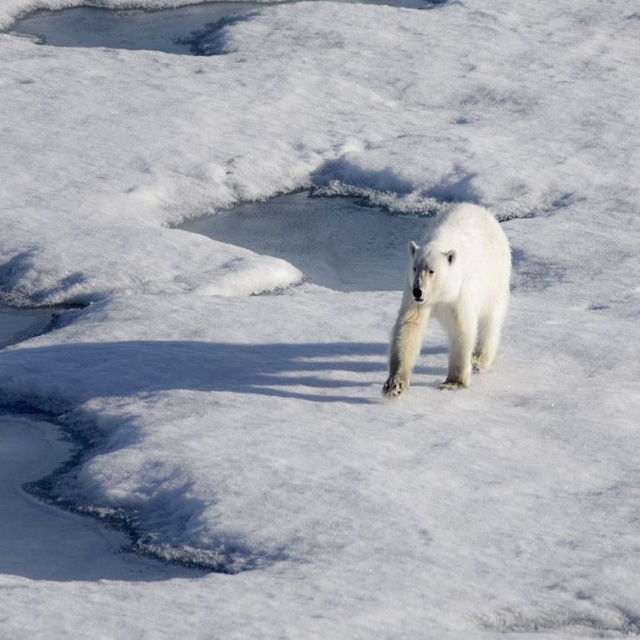Polar bear: (380, 200, 514, 398)
